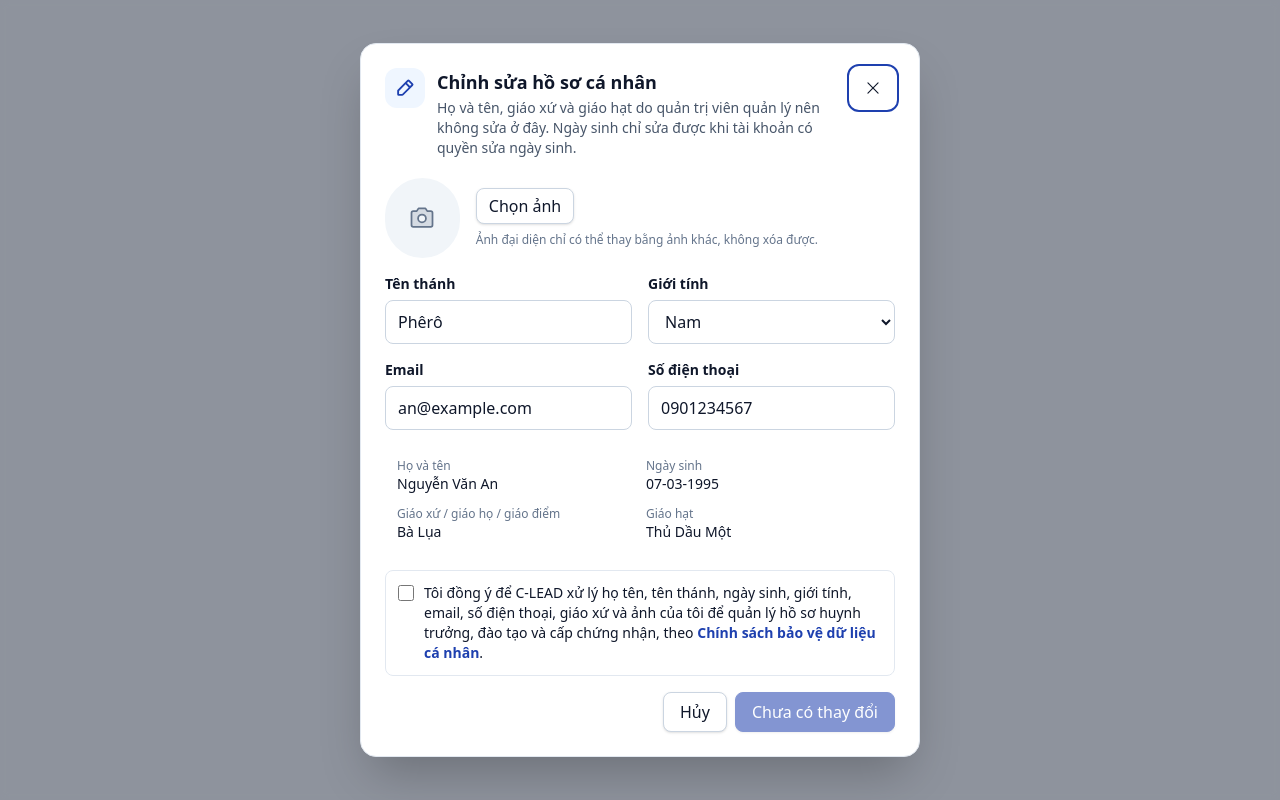
EditProfileDialog › does not tick the consent box by default and refuses to save until it is ticked
expect the checkbox is not checked: met, box left=398, top=585, right=414, bottom=601
Replace the text in the field labelled "Số điện thoại" with "0907654321" at (772,408), box left=648, top=386, right=895, bottom=430
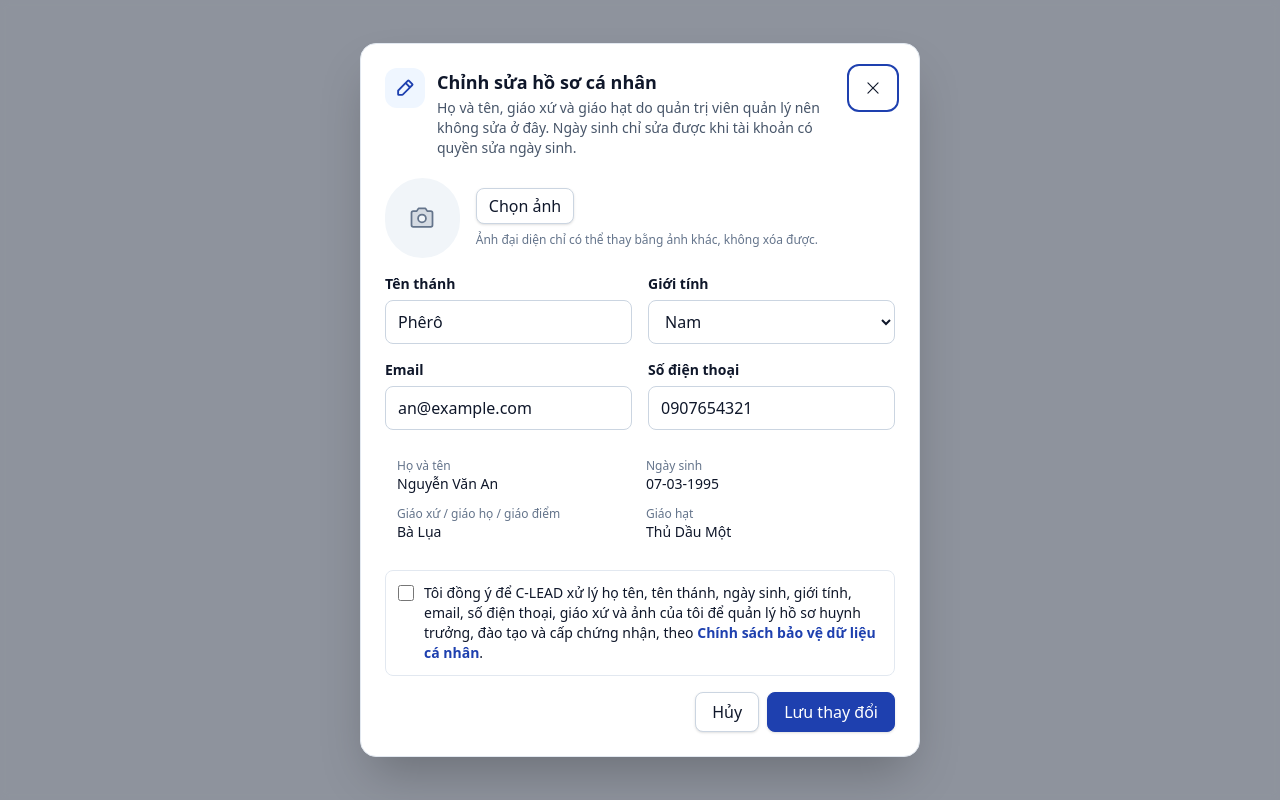
Click the button "Lưu thay đổi" at (831,712), box left=767, top=692, right=895, bottom=732
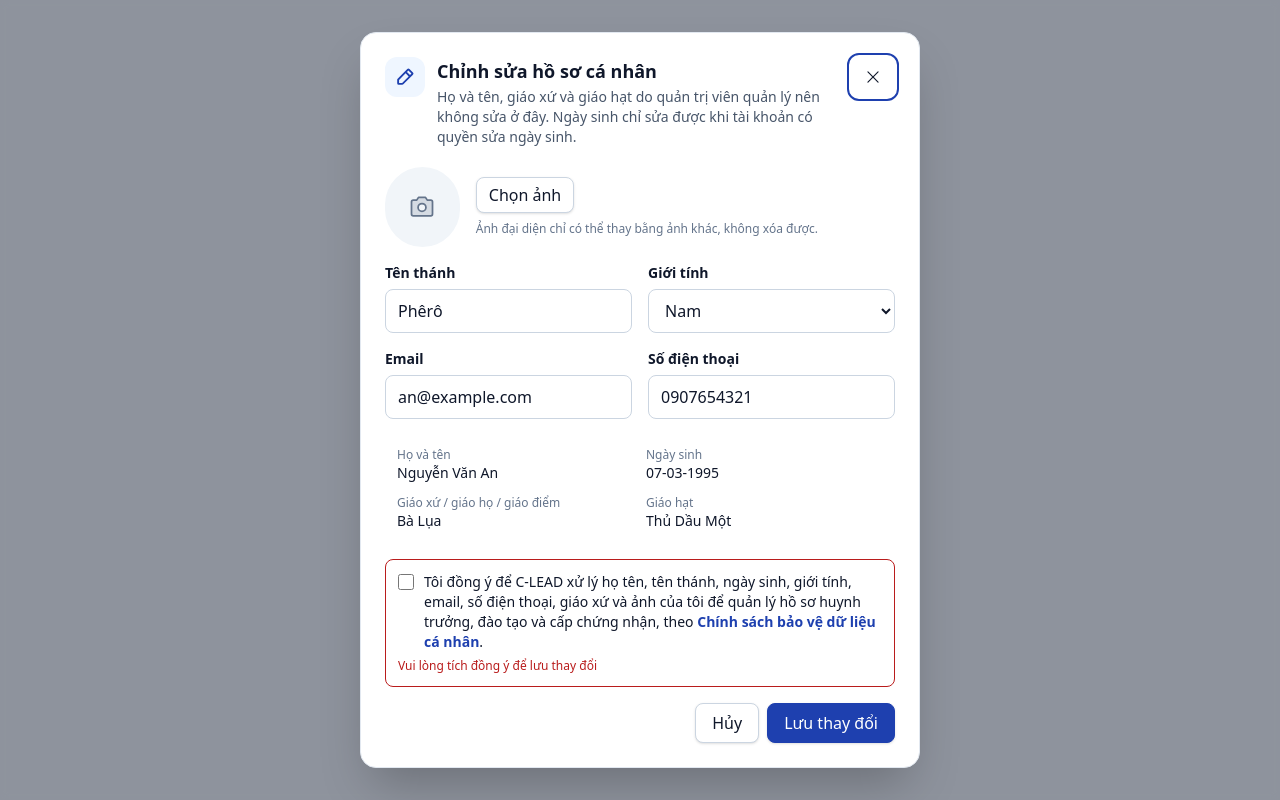
expect the text "Vui lòng tích đồng ý để lưu thay đổi" is shown: met, box left=398, top=657, right=597, bottom=674
